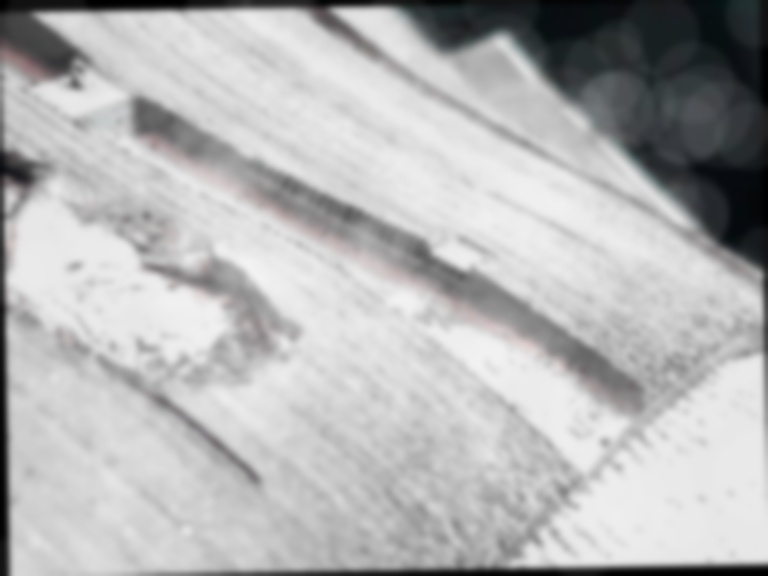temoin:0: (390, 205, 501, 296)
